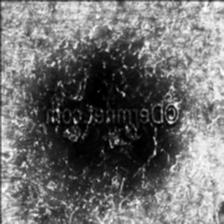Potentially Malignant Skin Tumors: (44, 50, 164, 174)
